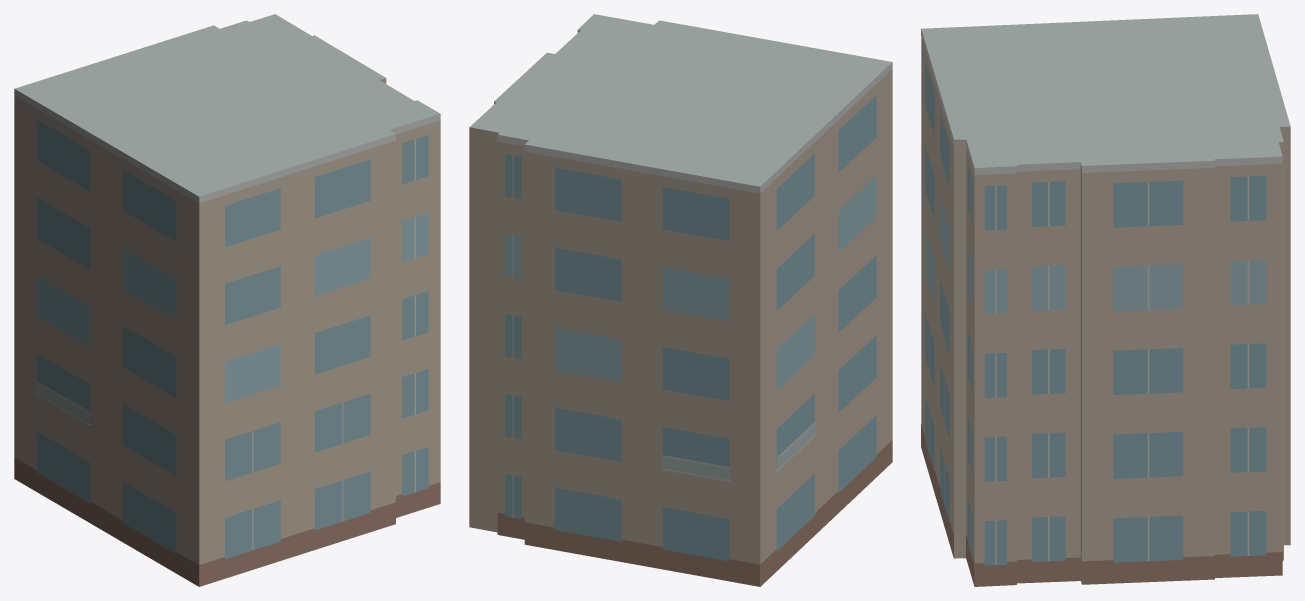
File: survey-upis-32982914.glb
The picture shows the model from 3 angles, left to right: view 1: azimuth 30°, elevation 25°; view 2: azimuth 150°, elevation 25°; view 3: azimuth 270°, elevation 25°; orthographic projection. The views are drawn at different scales.
Visible parts, largest first — view 1: survey-upis-32982914.tmp; view 2: survey-upis-32982914.tmp; view 3: survey-upis-32982914.tmp.
Boxes of the visible parts, x1,y1,x2,y2 form: survey-upis-32982914.tmp: (14,14,440,586); survey-upis-32982914.tmp: (469,14,892,586); survey-upis-32982914.tmp: (921,14,1290,586).
Bounding box in the file's own units: 11.29 × 14.3 × 11.44.
